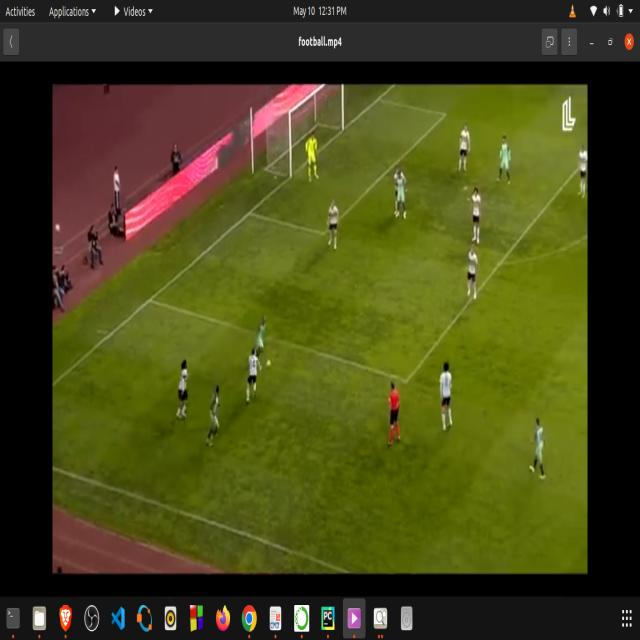Ball: (265, 356, 273, 374)
Goalkeeper: (305, 130, 321, 188), (467, 242, 480, 304)
Refree: (384, 372, 407, 452)
football-players: (438, 356, 461, 436), (528, 412, 550, 491), (205, 375, 225, 460), (173, 352, 194, 424), (469, 181, 487, 248), (325, 194, 342, 260), (246, 344, 262, 410), (496, 133, 513, 190), (393, 166, 409, 222), (456, 119, 471, 178), (255, 312, 269, 364), (576, 141, 588, 200)
